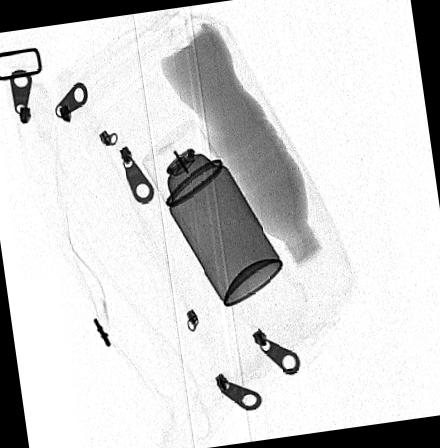Sprayer: (142, 120, 282, 307)
